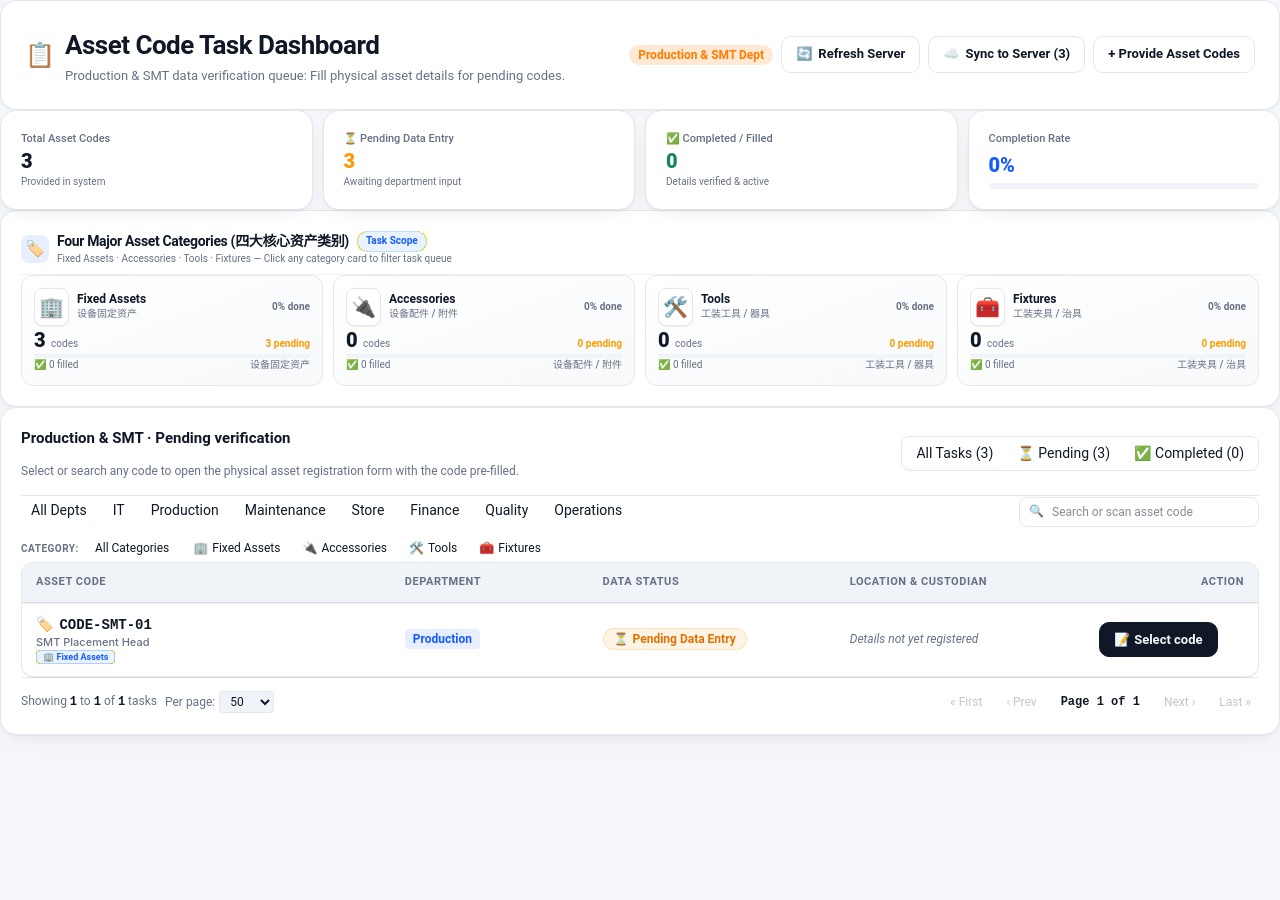
Test: Central Asset Synchronization & Global Queue Visibility Specification › AssetCodeWorkflow defaults department filter to All so all uploaded codes appear for everyone
The width and height of the screenshot is (1280, 900).
expect the text "Total Asset Codes" is shown: met, box [21,132,110,145]
expect the text "3" below "Total Asset Codes" is shown: met, box [21,149,33,173]
// Clicking "All Depts" allows employee to view all uploaded codes across all departments
Click the button "All Depts" at [59, 510], box [21,496,97,524]
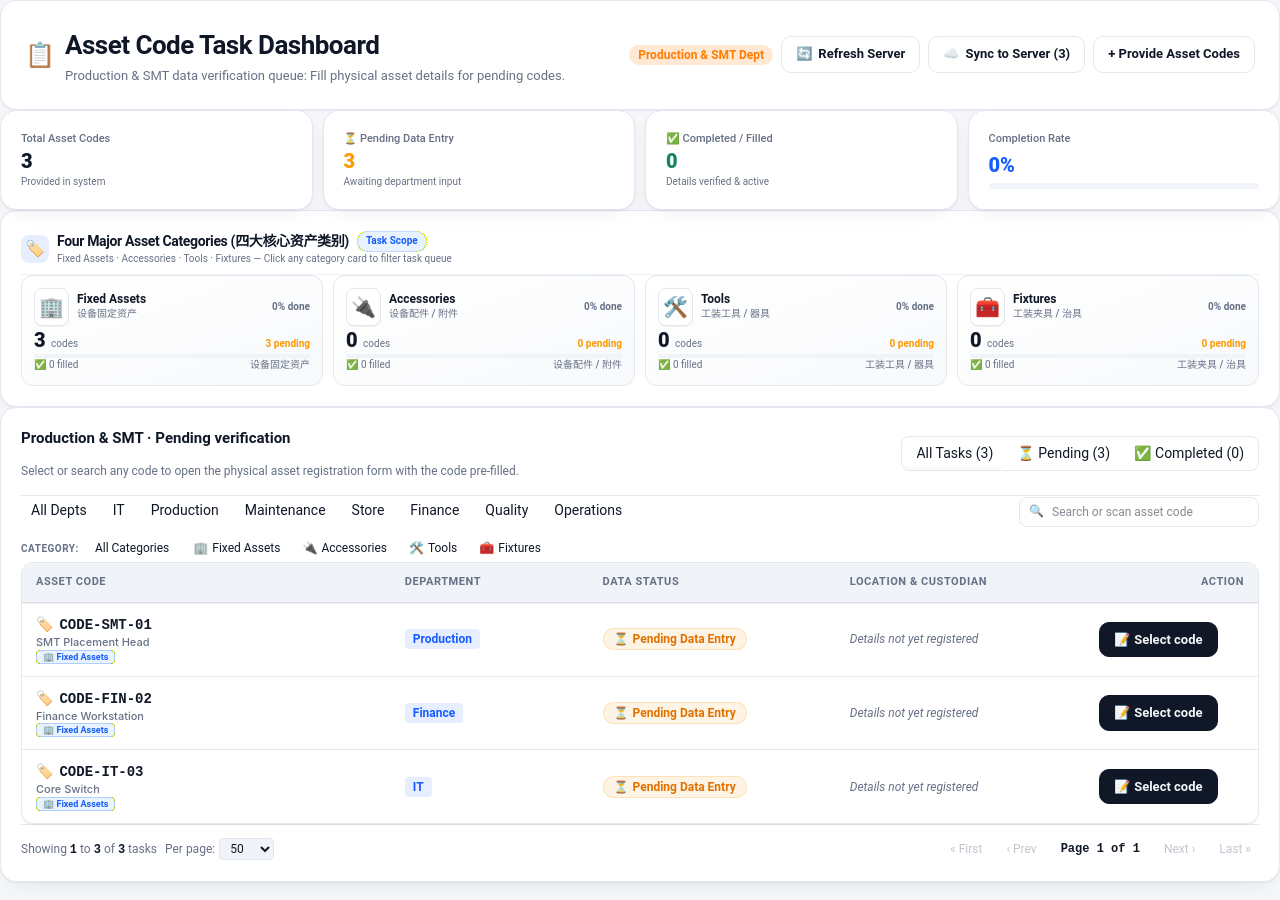
expect the text "CODE-FIN-02" is shown: met, box [60,689,152,709]
expect the text "CODE-IT-03" is shown: met, box [60,762,144,782]
